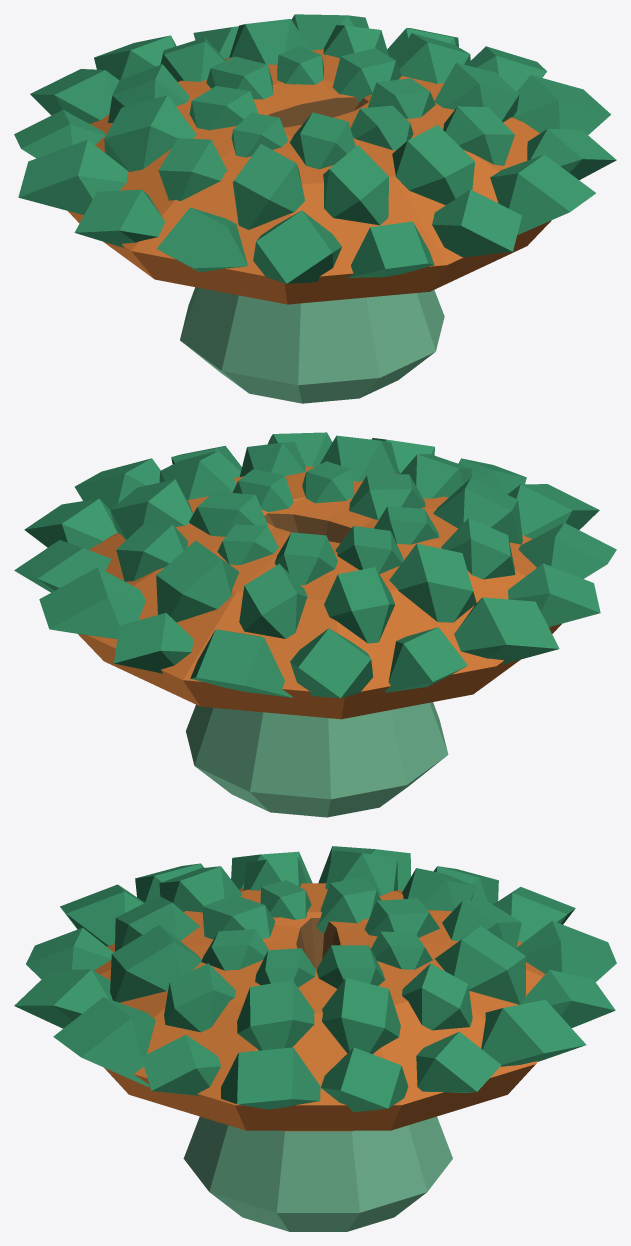
File: ricordea-mushroom-polyp-6d8178.glb
The picture shows the model from 3 angles, top to bottom: view 1: azimuth 30°, elevation 25°; view 2: azimuth 150°, elevation 25°; view 3: azimuth 270°, elevation 25°; orthographic projection.
Visible parts, largest first — view 1: ricordea-disc, ricordea-foot; view 2: ricordea-disc, ricordea-foot; view 3: ricordea-disc, ricordea-foot.
Part boxes in pixels (x1=…): ricordea-disc: x1=14, y1=14, x2=616, y2=304; ricordea-foot: x1=180, y1=287, x2=444, y2=403; ricordea-disc: x1=14, y1=432, x2=616, y2=719; ricordea-foot: x1=186, y1=702, x2=448, y2=817; ricordea-disc: x1=14, y1=846, x2=616, y2=1131; ricordea-foot: x1=183, y1=1116, x2=452, y2=1231.
Bounding box in the file's own units: 0.07 × 0.0357 × 0.0694.
